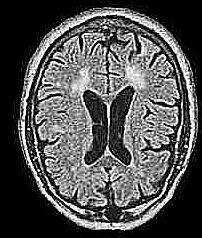Normal_Brain: (23, 2, 202, 238)
